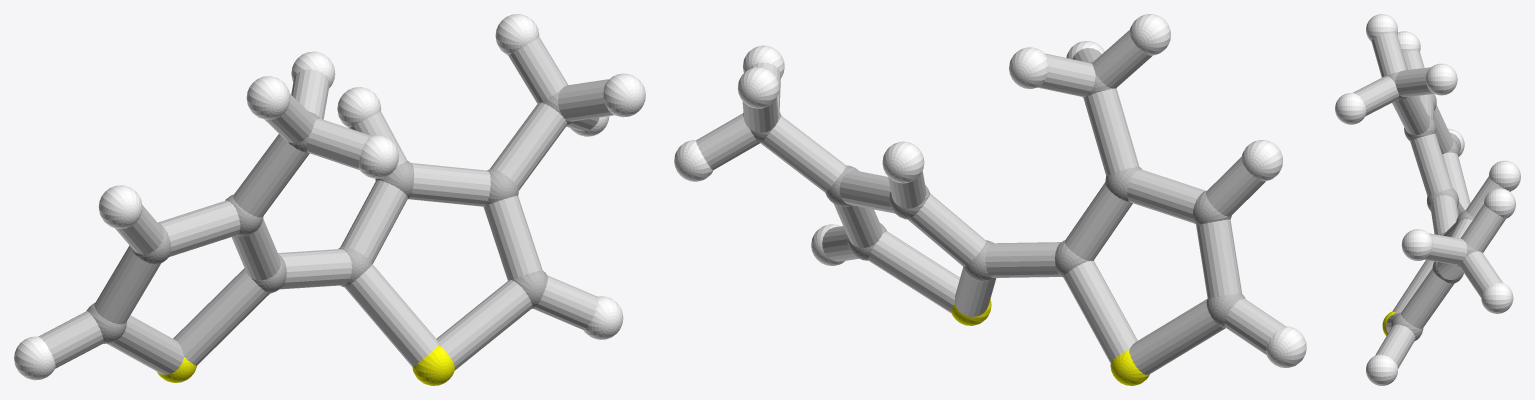
Rendered from Methylthiophene_Phi_20_Theta_130_Methylthiophene.glb.
3 views of the same model, side by side, from view 1: azimuth 30°, elevation 25°; view 2: azimuth 150°, elevation 25°; view 3: azimuth 270°, elevation 25° (orthographic). The views are drawn at different scales.
Visible parts, largest first — view 1: grp7965, grp3621, grp1, grp7241; view 2: grp7965, grp3621, grp1, grp7241; view 3: grp7965, grp3621, grp1.
Part boxes in pixels (x1,y1,x2,y2): grp7965: (38, 37, 614, 374); grp3621: (14, 14, 645, 380); grp1: (86, 91, 573, 343); grp7241: (157, 345, 454, 385); grp7965: (696, 30, 1285, 374); grp3621: (674, 14, 1306, 367); grp1: (743, 61, 1245, 327); grp7241: (951, 299, 1149, 385); grp7965: (1353, 32, 1510, 368); grp3621: (1335, 14, 1520, 385); grp1: (1387, 72, 1477, 340).
Size of the model in its own units: 9.83 by 5.39 by 3.47.
